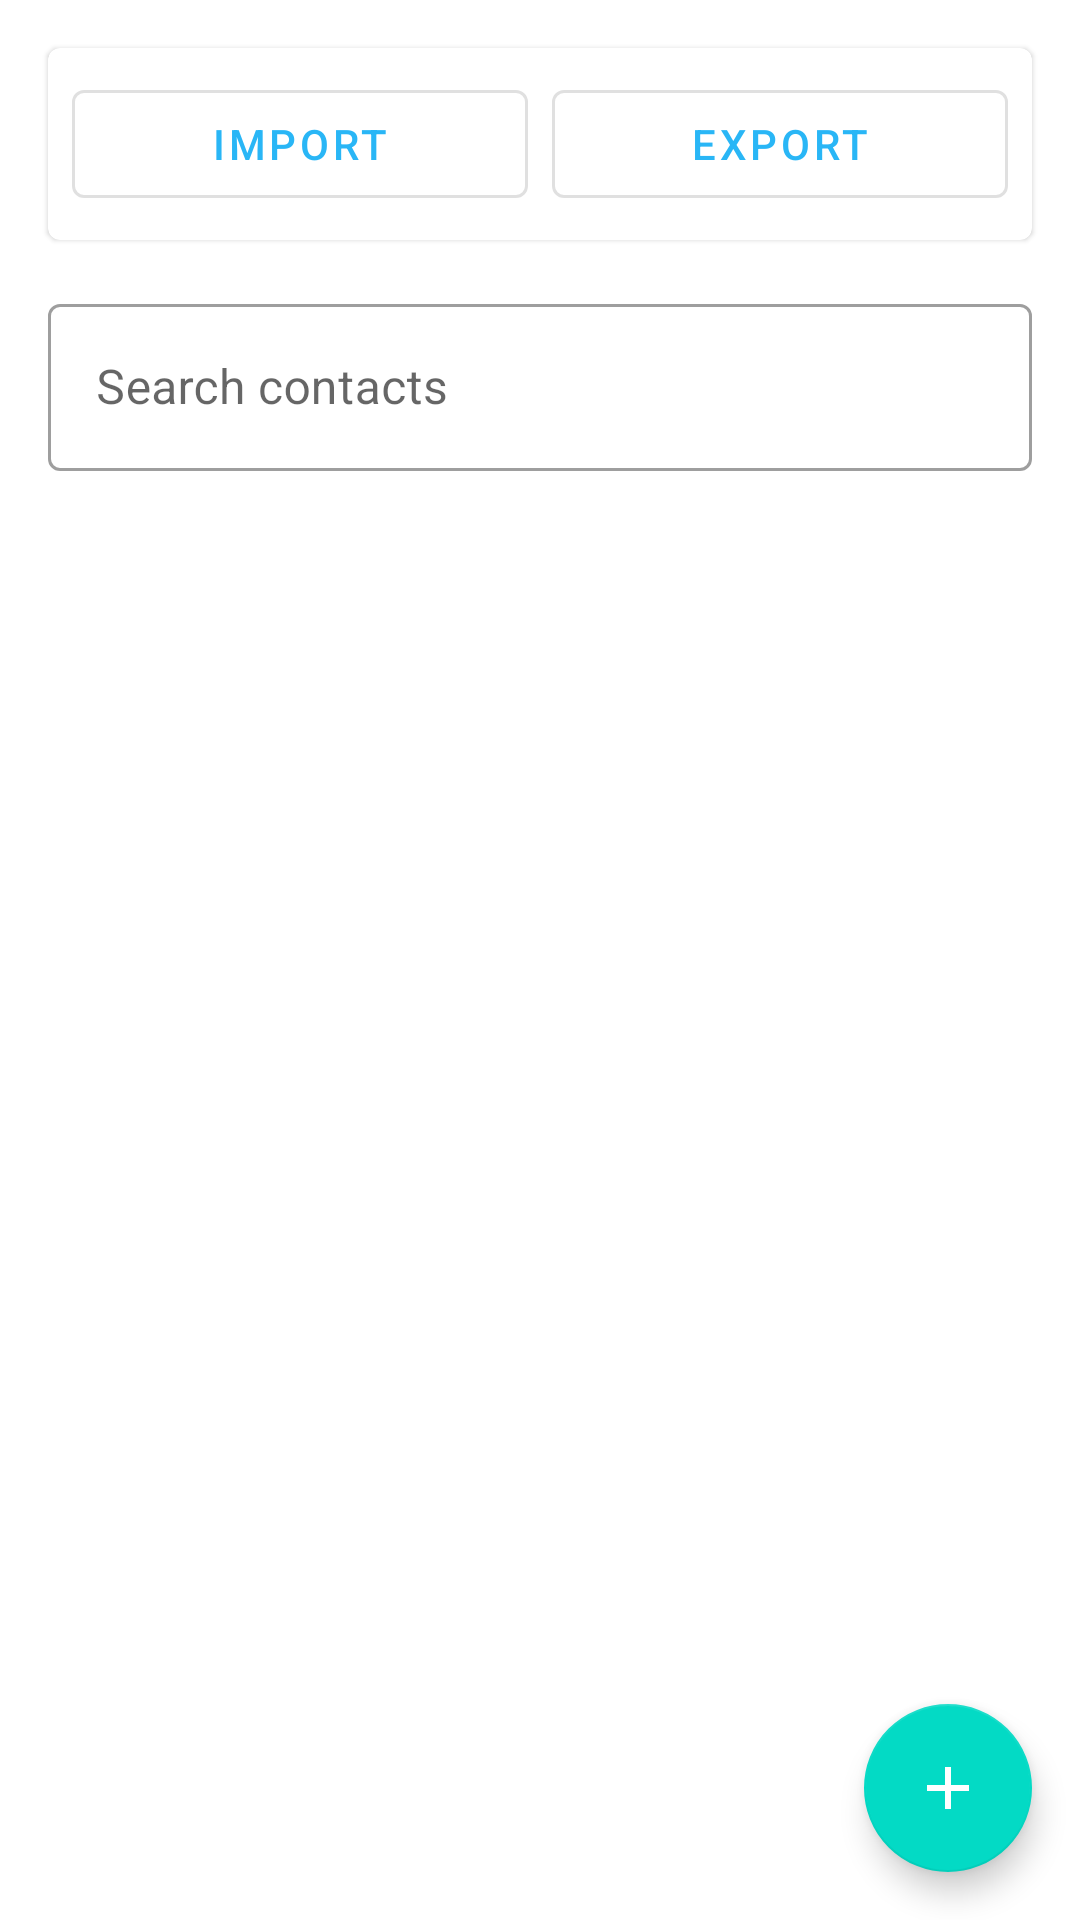

Icons on this 1080 x 1920 Android screen, each with the point to tap as (x,y):
Add contact: (948,1788)
